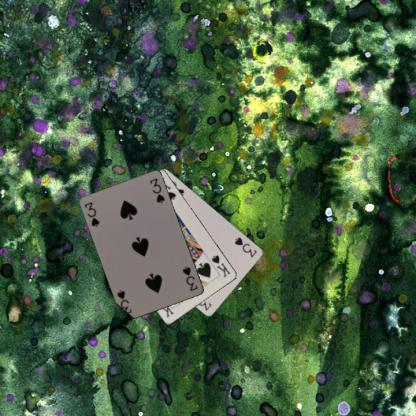3s: (232, 235, 258, 258), (82, 199, 101, 228), (180, 264, 199, 292)
Ks: (209, 253, 232, 279)
